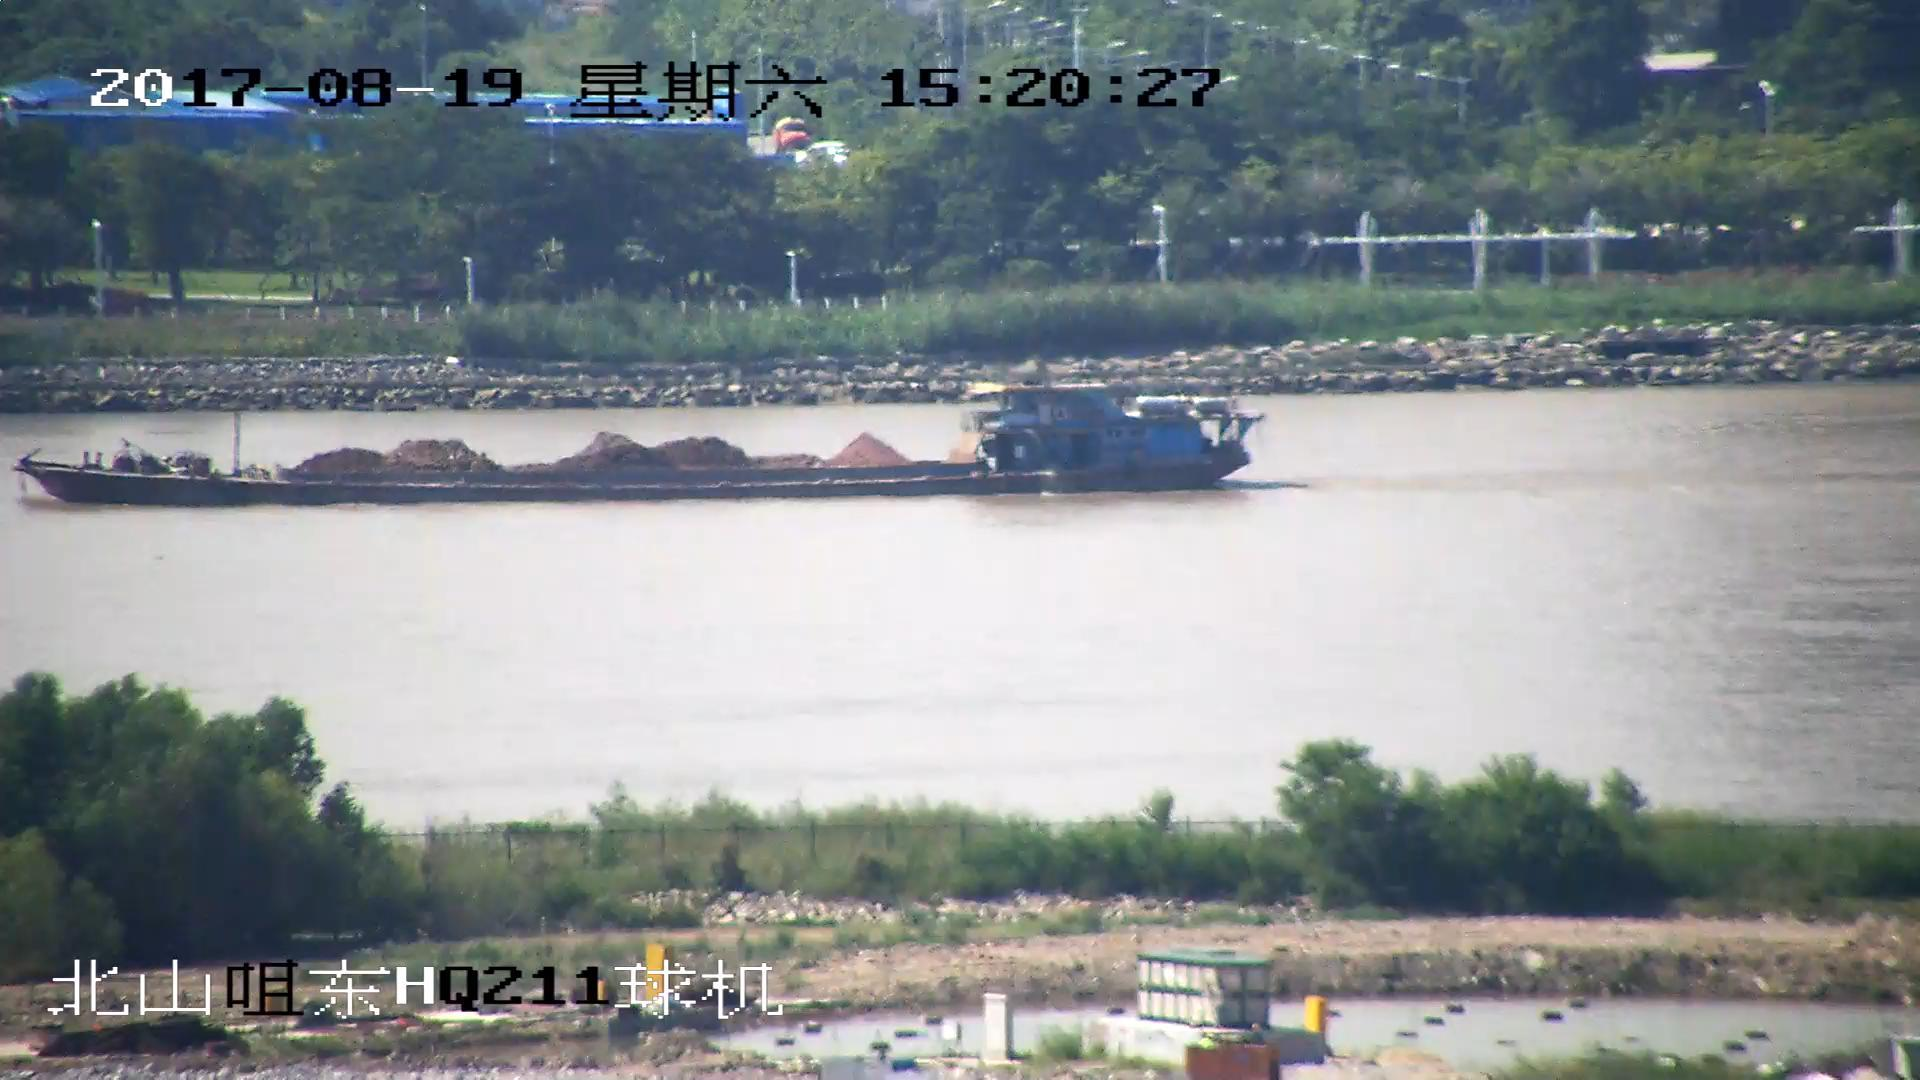Ship: (17, 381, 1261, 512)
